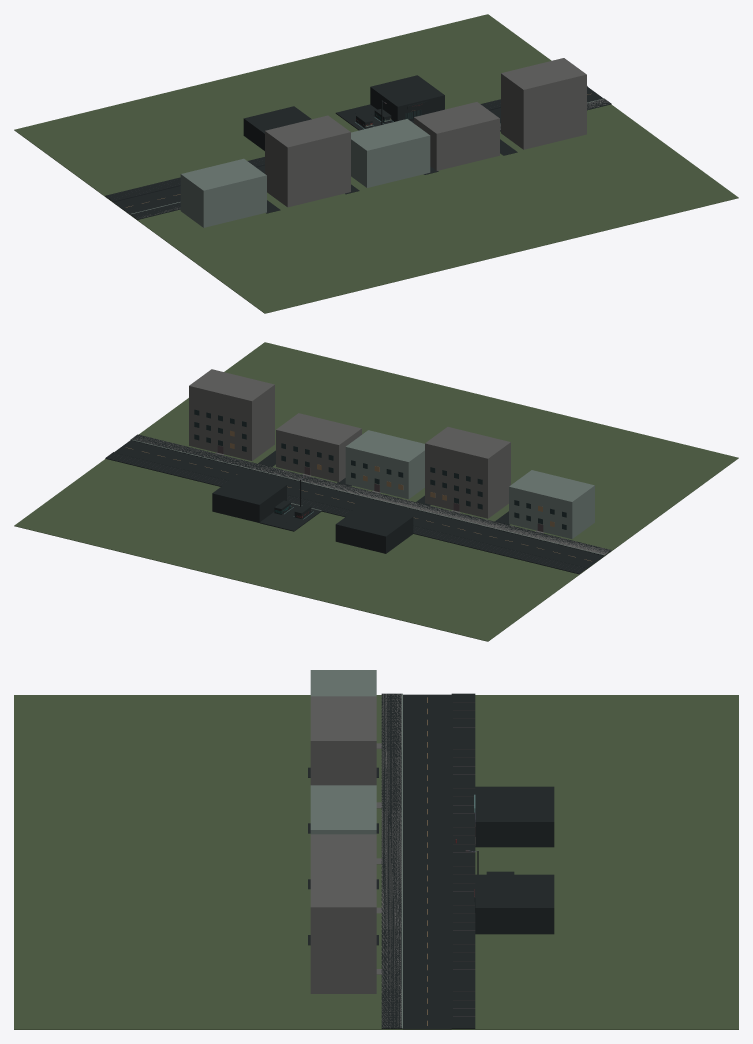
File: sala_strada.glb
3 renders of one model, top to bottom at view 1: azimuth 30°, elevation 25°; view 2: azimuth 150°, elevation 25°; view 3: azimuth 270°, elevation 25°, orthographic. The views are drawn at different scales.
Visible parts, largest first — view 1: Strada, Coliziune; view 2: Strada, Coliziune; view 3: Strada, Coliziune.
Part boxes in pixels (box(x1,y1,x2,y2)): Strada: box(14, 14, 738, 313); Coliziune: box(105, 75, 611, 219); Strada: box(14, 342, 738, 641); Coliziune: box(105, 434, 611, 574); Strada: box(14, 670, 738, 1029); Coliziune: box(381, 693, 554, 1029).
Bounding box in the file's own units: 120 × 14.66 × 110.
